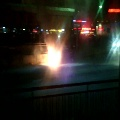fire: (43, 46, 61, 68)
